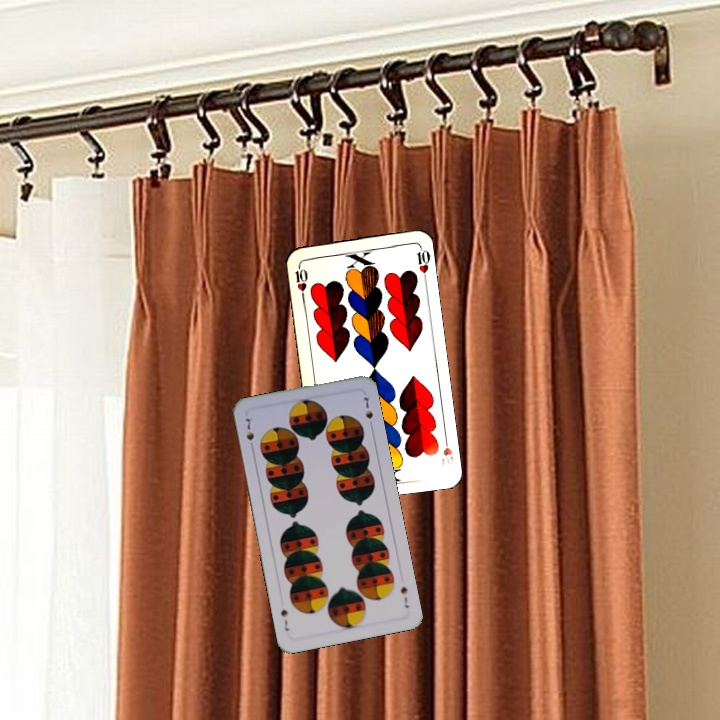H10: (291, 260, 310, 301), (437, 431, 456, 471)
S7: (242, 414, 257, 453), (396, 583, 412, 611)
